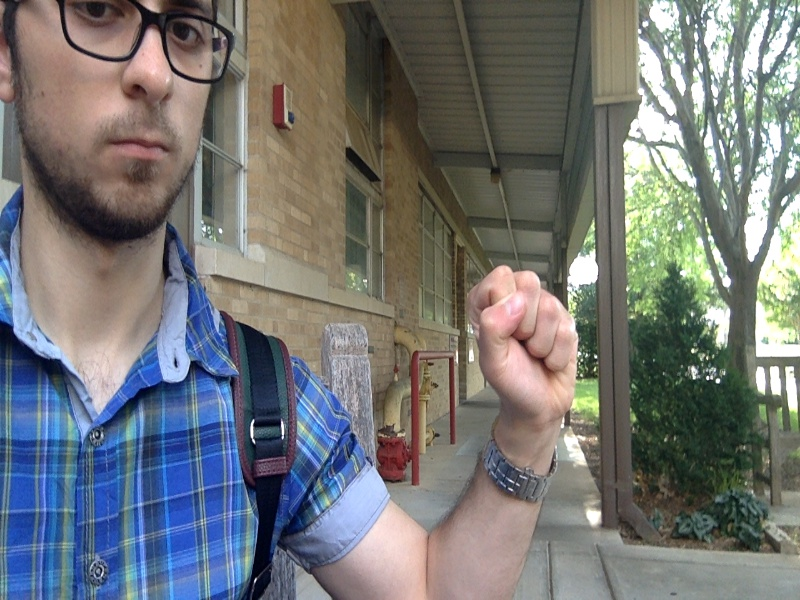0-hand: (474, 264, 582, 437)
